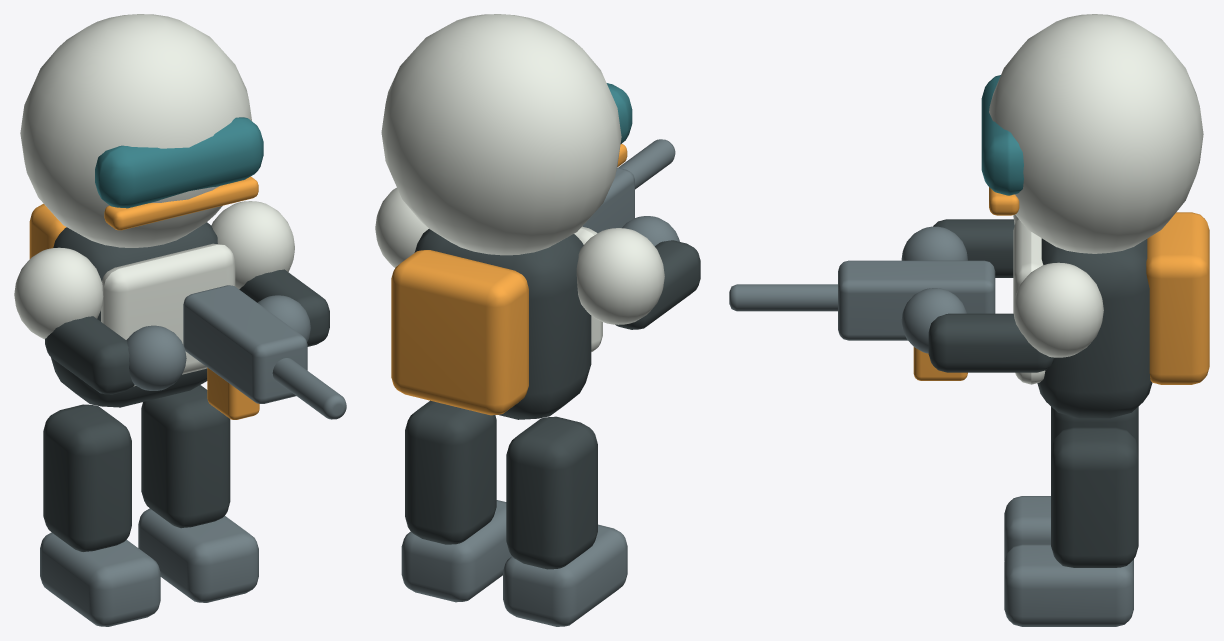
File: soldier.glb
3 views of the same model, side by side, from view 1: azimuth 30°, elevation 25°; view 2: azimuth 150°, elevation 25°; view 3: azimuth 270°, elevation 25° (orthographic). The views are drawn at different scales.
Visible parts, largest first — view 1: Soldier helmet, Trouser, Trouser.001, Rifle receiver, Wraparound visor, Soldier breastplate, Boot, Boot.001, Shoulder, Soldier suit, Shoulder.001, Forearm (+7 smaller); view 2: Soldier helmet, Soldier backpack, Trouser, Trouser.001, Soldier suit, Boot, Shoulder, Boot.001, Forearm, Shoulder.001, Rifle receiver, Rifle barrel (+3 smaller); view 3: Soldier helmet, Soldier suit, Trouser.001, Soldier backpack, Rifle receiver, Boot.001, Shoulder.001, Forearm.001, Wraparound visor, Rifle barrel, Forearm, Boot (+6 smaller).
Boxes of the visible parts, x1,y1,x2,y2 form: Soldier helmet: (20,14,251,247); Trouser: (43,404,131,551); Trouser.001: (141,385,230,528); Rifle receiver: (183,285,307,403); Wraparound visor: (95,117,263,208); Soldier breastplate: (101,243,235,386); Boot: (40,532,160,626); Boot.001: (138,508,258,602); Shoulder: (14,247,103,339); Soldier suit: (51,222,217,407); Shoulder.001: (211,201,294,289); Forearm: (45,316,134,394); Soldier helmet: (381,14,621,255); Soldier backpack: (391,250,528,415); Trouser: (506,416,597,569); Trouser.001: (405,400,496,544); Soldier suit: (414,229,591,419); Boot: (503,524,627,626); Shoulder: (576,228,664,324); Boot.001: (401,500,511,602); Forearm: (615,240,700,329); Shoulder.001: (375,187,428,267); Rifle receiver: (582,167,634,233); Rifle barrel: (618,139,675,189); Soldier helmet: (989,14,1203,253); Soldier suit: (1037,238,1152,418); Trouser.001: (1051,427,1138,567); Soldier backpack: (1146,212,1209,384); Rifle receiver: (838,260,995,340); Boot.001: (1004,544,1133,626); Shoulder.001: (1013,262,1103,357); Forearm.001: (928,313,1054,372); Wraparound visor: (981,75,1023,195); Rifle barrel: (729,284,837,311); Forearm: (933,219,1014,277); Boot: (1004,496,1133,560).
Size of the model in its own units: 0.8112 by 1.61 by 1.24.
